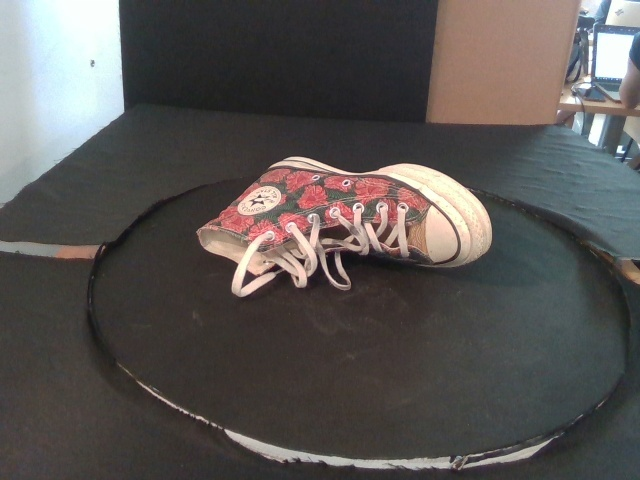shoe: (195, 156, 493, 278)
